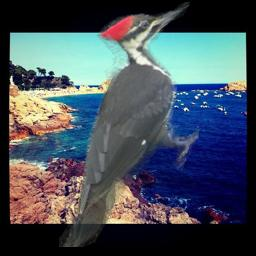Woodpecker: (59, 2, 199, 247)
